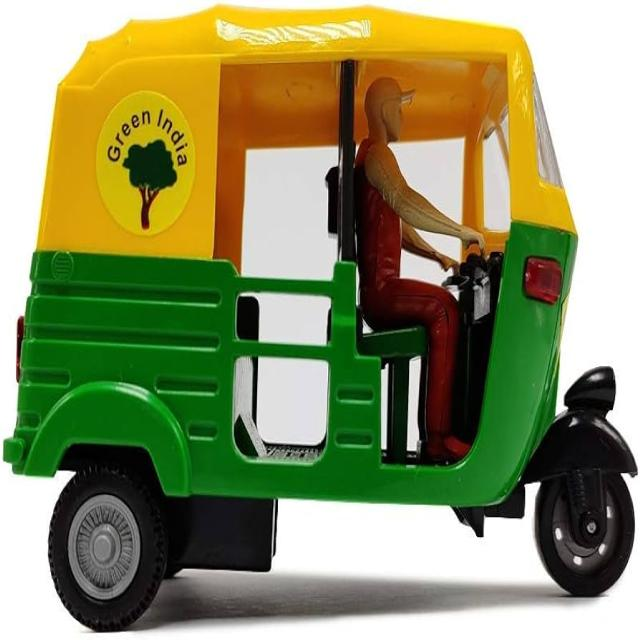autorickshaw: (4, 5, 636, 630)
